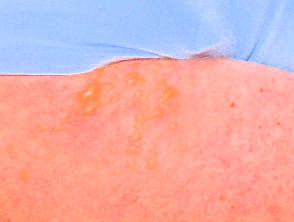SJS-TEN: (0, 41, 294, 222)
